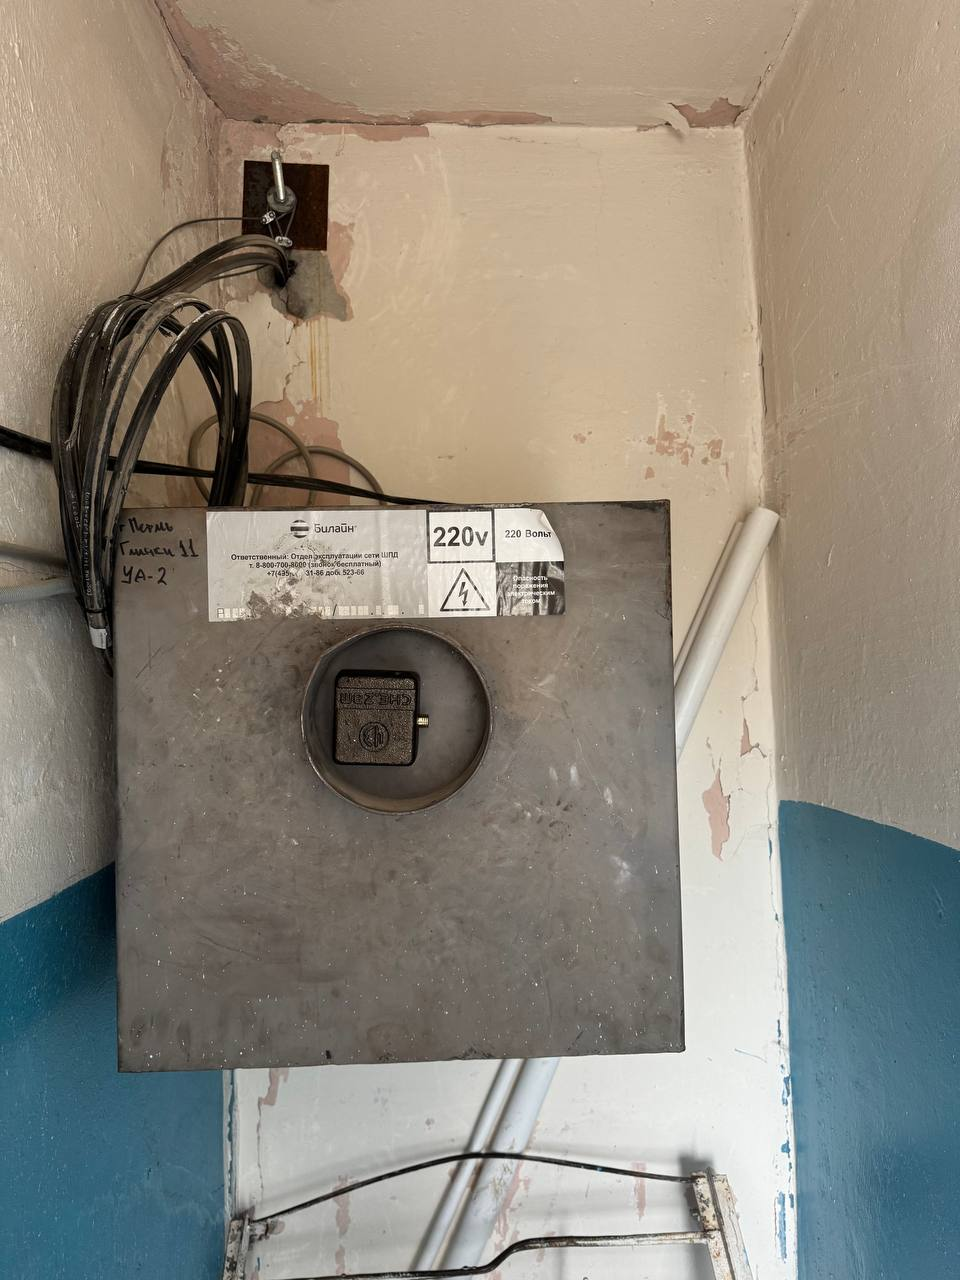shta-9: (91, 476, 703, 1086)
